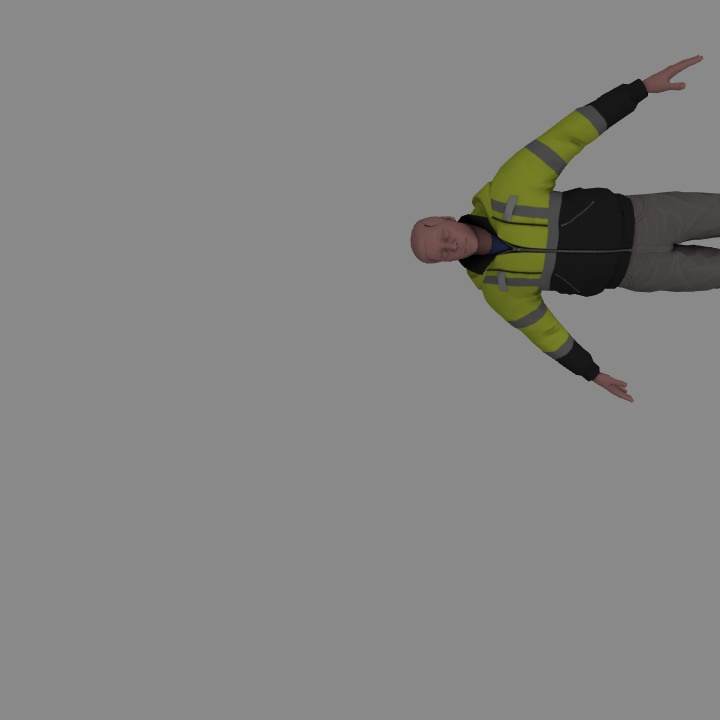victim: (409, 54, 720, 397)
